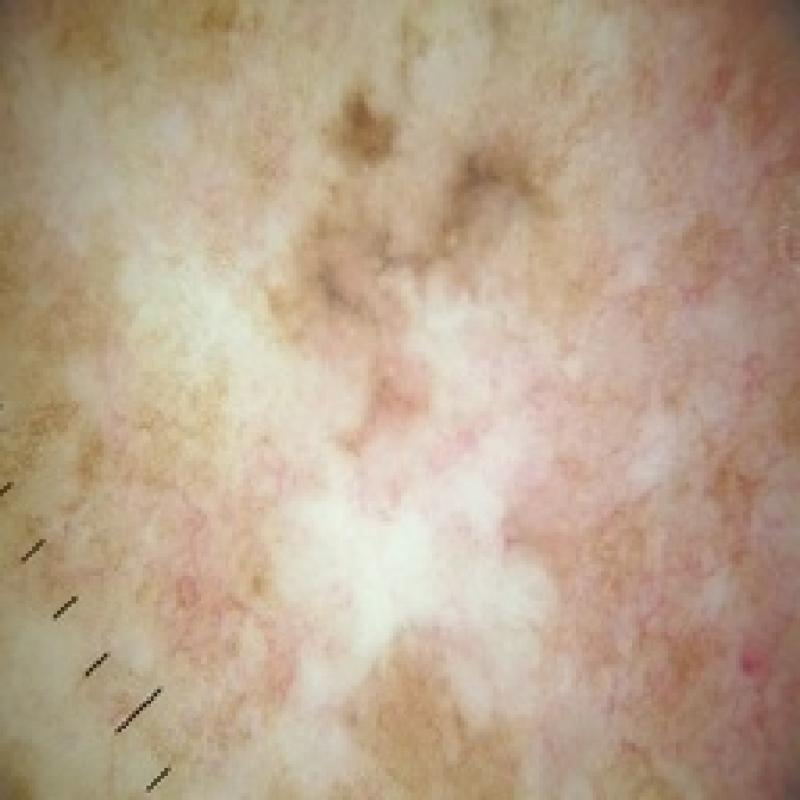malignant: (229, 62, 632, 488)
